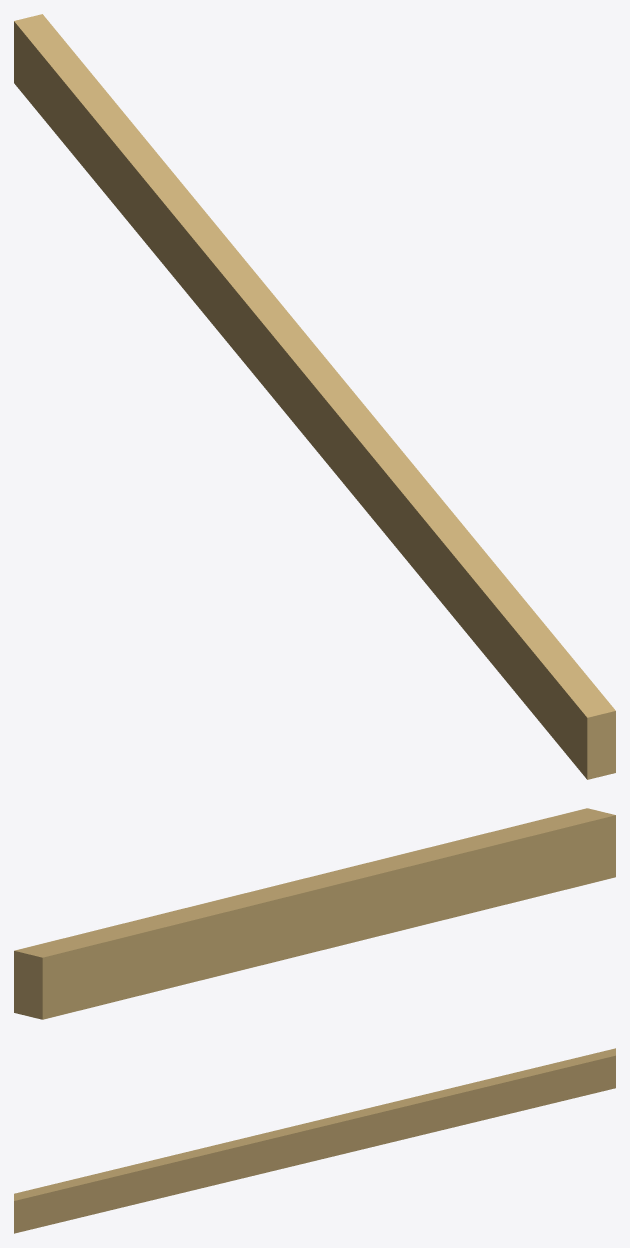
The picture shows the model from 3 angles, top to bottom: view 1: azimuth 30°, elevation 25°; view 2: azimuth 150°, elevation 25°; view 3: azimuth 270°, elevation 25°; orthographic projection. The views are drawn at different scales.
Parts seen in each view (by area): view 1: L1-3-S7-322-M09; view 2: L1-3-S7-322-M09; view 3: L1-3-S7-322-M09.
Boxes of the visible parts, x1,y1,x2,y2 form: L1-3-S7-322-M09: (14,14,615,779); L1-3-S7-322-M09: (14,808,615,1019); L1-3-S7-322-M09: (14,1048,615,1233).
Size of the model in its own units: 0.045 by 0.5093 by 1.56.
